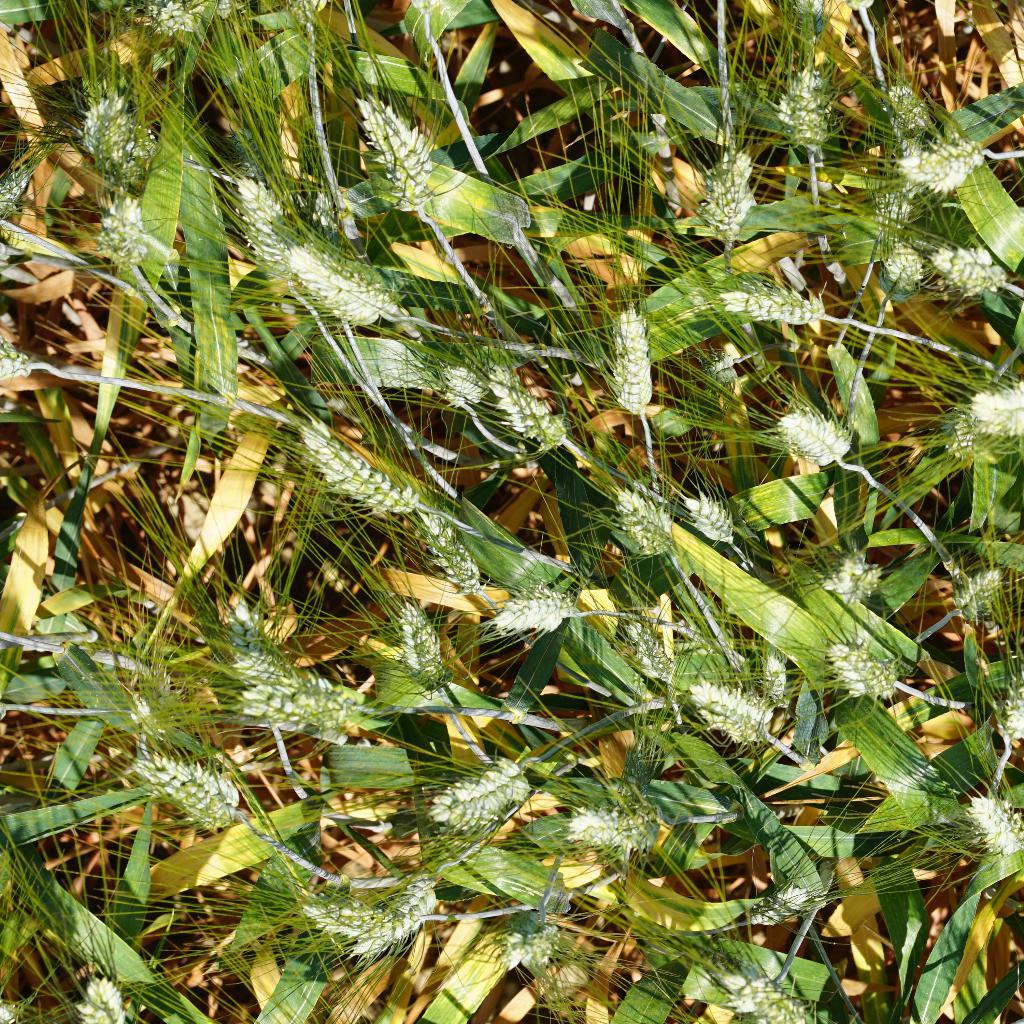0-0: (277, 417, 429, 526), (118, 728, 245, 836), (208, 597, 296, 750), (347, 89, 436, 224), (287, 235, 415, 326), (217, 651, 365, 729), (400, 481, 496, 598), (418, 742, 535, 830), (67, 77, 157, 191), (484, 357, 583, 460), (819, 627, 911, 722), (374, 587, 456, 691), (774, 397, 869, 486), (359, 873, 441, 971), (298, 894, 441, 948), (682, 673, 777, 754), (699, 961, 821, 1024), (768, 59, 841, 161), (718, 272, 833, 336), (692, 141, 762, 244), (292, 171, 339, 324), (608, 295, 665, 421), (613, 728, 667, 861), (488, 574, 585, 646), (896, 130, 1005, 194), (82, 178, 160, 267), (930, 375, 1001, 467), (610, 485, 681, 576), (605, 609, 691, 684), (232, 171, 296, 266), (926, 236, 1016, 303), (490, 916, 582, 980), (803, 541, 882, 612), (878, 68, 935, 159), (737, 874, 814, 941), (863, 234, 933, 307), (961, 369, 1024, 449), (957, 784, 1024, 858), (559, 802, 664, 849), (63, 967, 149, 1024), (677, 486, 746, 552), (221, 118, 286, 187), (858, 173, 918, 244), (740, 641, 799, 712), (949, 560, 1013, 624), (115, 1, 225, 38), (430, 355, 497, 414), (990, 667, 1024, 759), (689, 349, 744, 399)
